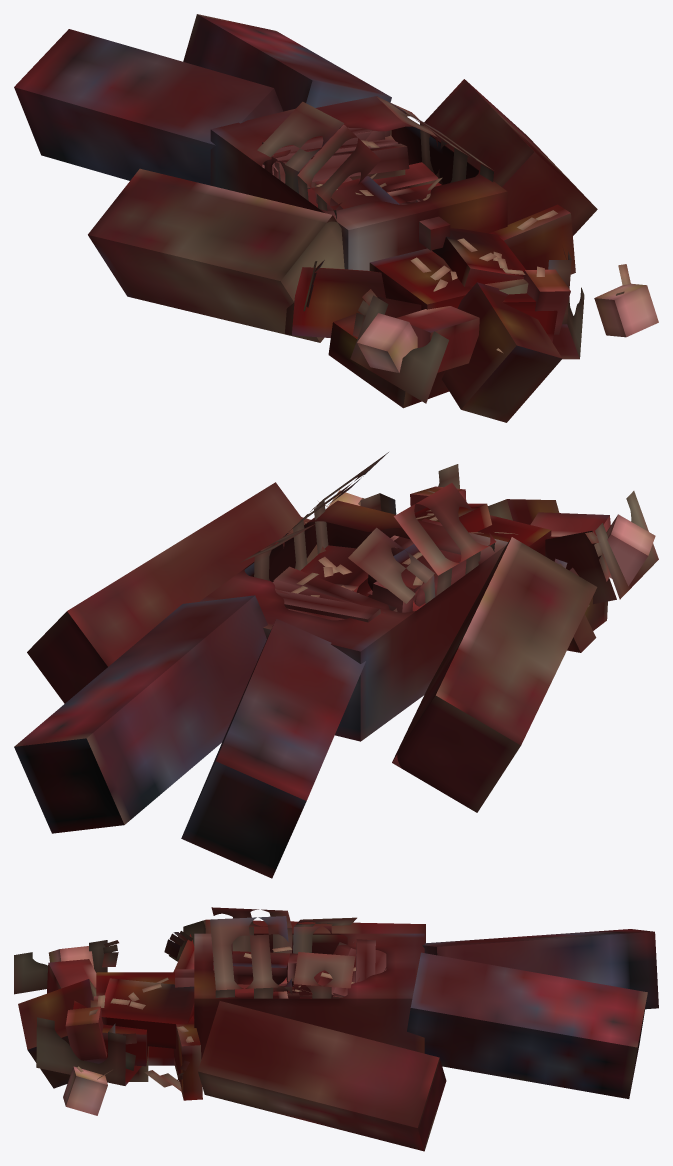
Rendered from lying_2.obj.
3 renders of one model, top to bottom at view 1: azimuth 30°, elevation 25°; view 2: azimuth 150°, elevation 25°; view 3: azimuth 270°, elevation 25°, orthographic. The views are drawn at different scales.
Parts seen in each view (by area): view 1: Body; view 2: Body; view 3: Body.
Part boxes in pixels (x1=…): Body: x1=14, y1=14, x2=658, y2=422; Body: x1=14, y1=452, x2=658, y2=878; Body: x1=14, y1=907, x2=658, y2=1151.
Size of the model in its own units: 1.41 by 0.6481 by 2.1.
